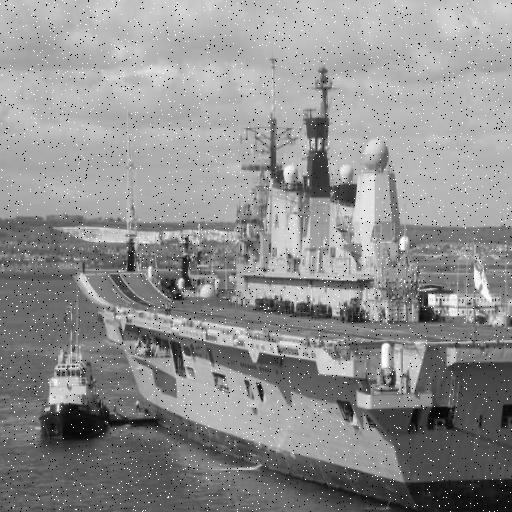Portanaves: (71, 50, 512, 512)
